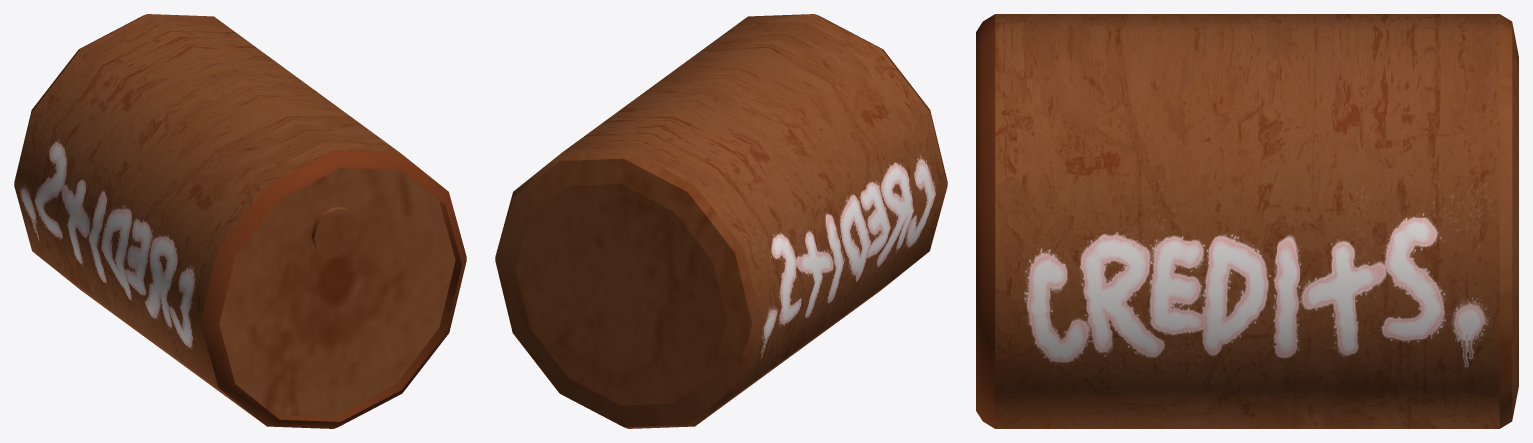
The model's file is DM_BarrelSidewaysHD.fbx.
3 views of the same model, side by side, from view 1: azimuth 30°, elevation 25°; view 2: azimuth 150°, elevation 25°; view 3: azimuth 270°, elevation 25° (orthographic). The views are drawn at different scales.
Visible parts, largest first — view 1: pCylinder1; view 2: pCylinder1; view 3: pCylinder1.
Boxes of the visible parts, x1,y1,x2,y2 form: pCylinder1: (14, 14, 466, 428); pCylinder1: (495, 14, 947, 428); pCylinder1: (976, 14, 1518, 428).
Size of the model in its own units: 2 by 2 by 2.61.
